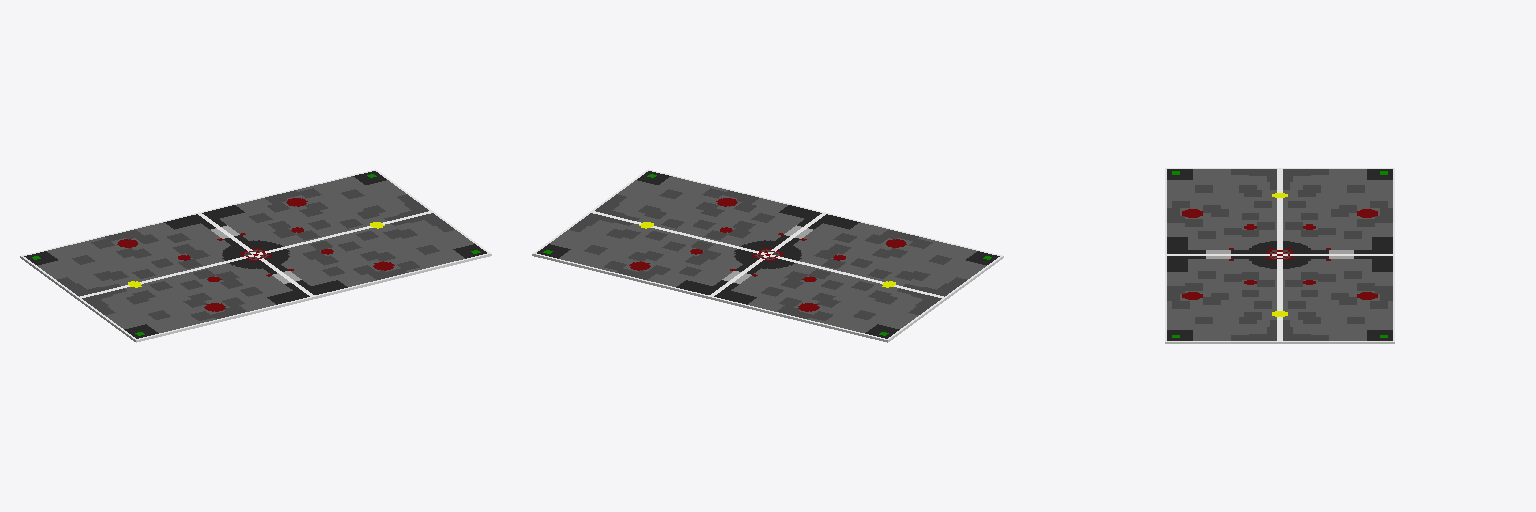
3 renders of one model, left to right at view 1: azimuth 30°, elevation 25°; view 2: azimuth 150°, elevation 25°; view 3: azimuth 270°, elevation 25°, orthographic.
Parts seen in each view (by area): view 1: object 1; view 2: object 1; view 3: object 1.
Part boxes in pixels (left/top/right/bottom): object 1: left=20, top=169, right=491, bottom=342; object 1: left=532, top=169, right=1003, bottom=342; object 1: left=1165, top=168, right=1394, bottom=343.
Bounding box in the file's own units: 16 × 0.1 × 9.
1 materials, 1 textured.